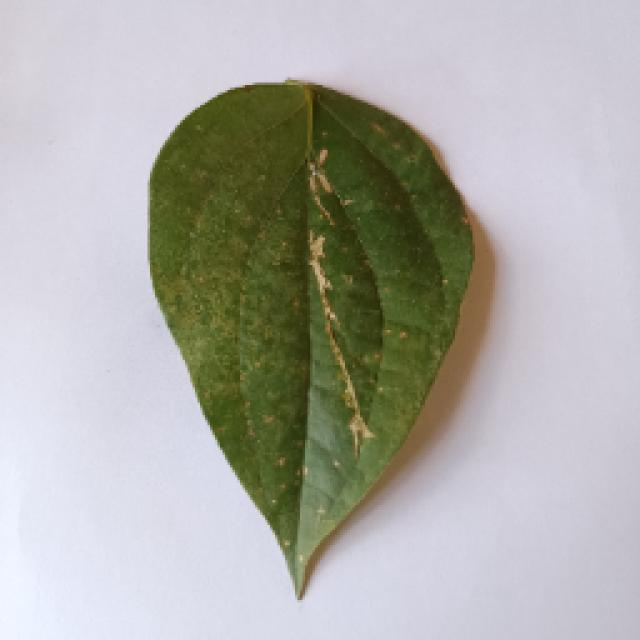pollu-disease: (130, 82, 480, 592)
